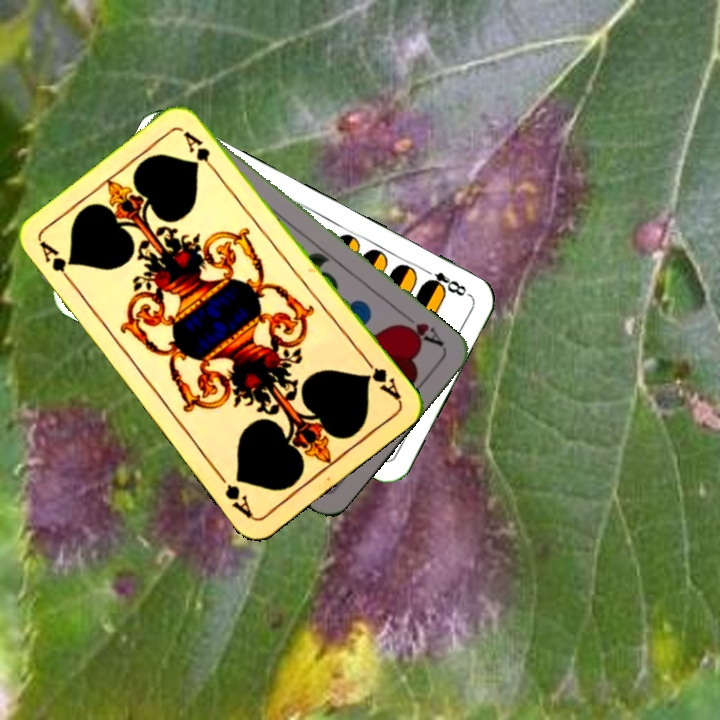E8: (419, 264, 469, 299)
GA: (360, 353, 404, 403), (36, 237, 77, 289)
HA: (394, 308, 447, 350)
